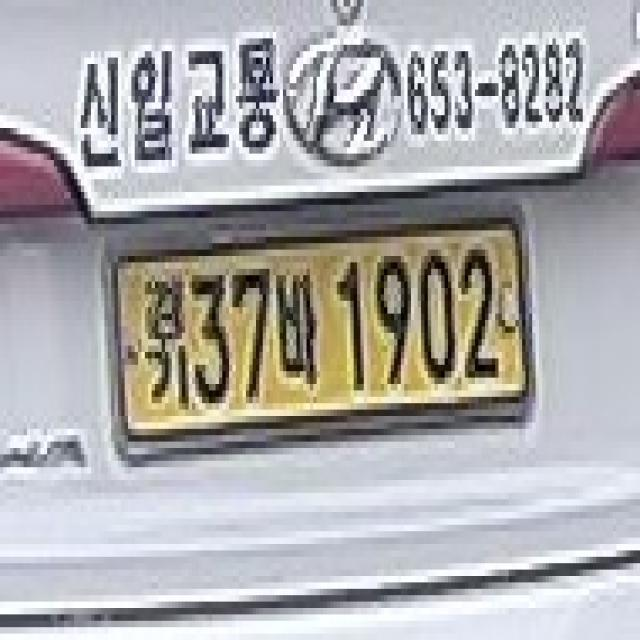plat: (109, 204, 534, 453)
